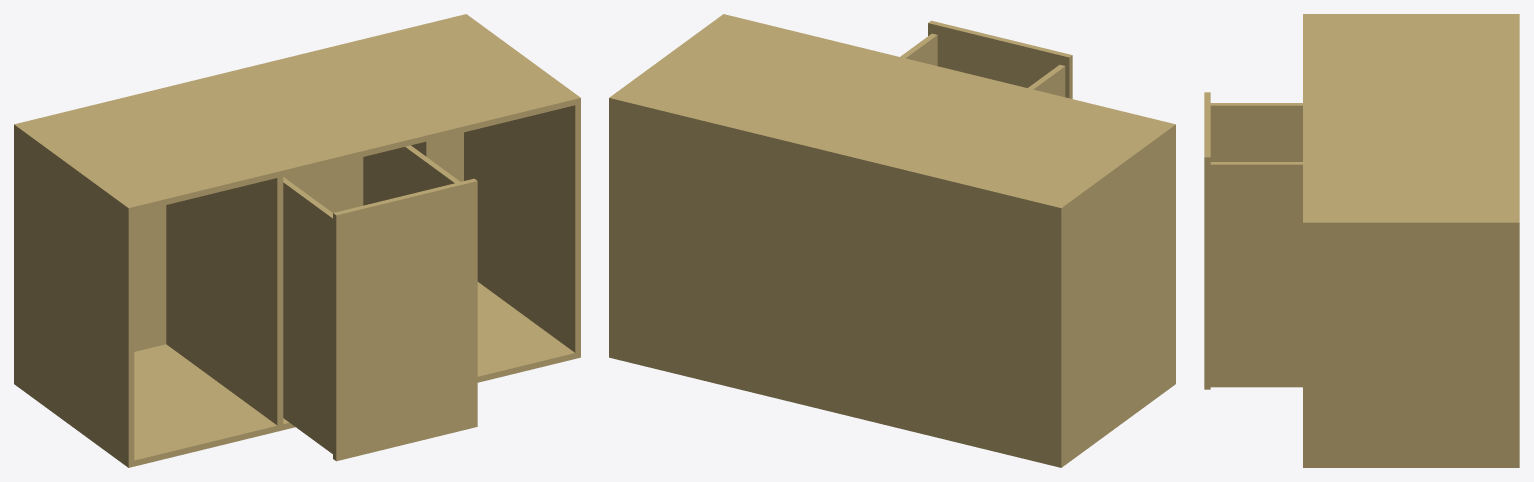
The model's file is meuble_69130fe254757.glb.
The picture shows the model from 3 angles, left to right: view 1: azimuth 30°, elevation 25°; view 2: azimuth 150°, elevation 25°; view 3: azimuth 270°, elevation 25°; orthographic projection. The views are drawn at different scales.
Visible parts, largest first — view 1: world; view 2: world; view 3: world.
Part boxes in pixels (bbox=[...]): world: bbox=[14, 14, 580, 467]; world: bbox=[609, 14, 1175, 467]; world: bbox=[1204, 14, 1519, 467].
Bounding box in the file's own units: 1.5 × 0.823 × 0.958.
